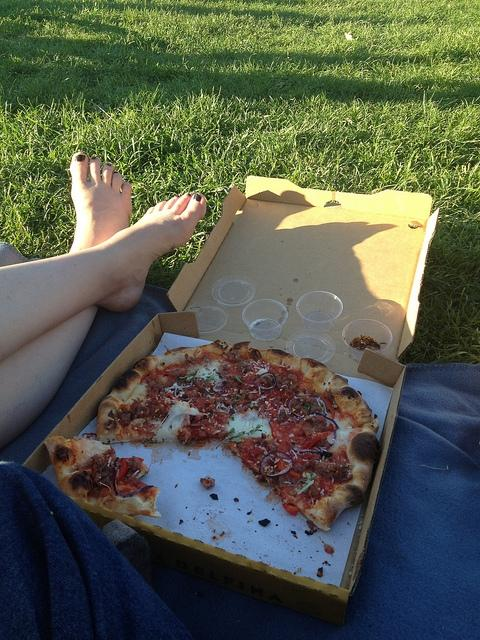onion: (292, 413, 338, 454), (112, 457, 154, 497), (260, 452, 294, 478), (288, 396, 328, 418), (253, 372, 278, 391), (211, 382, 226, 394), (174, 388, 178, 397)
